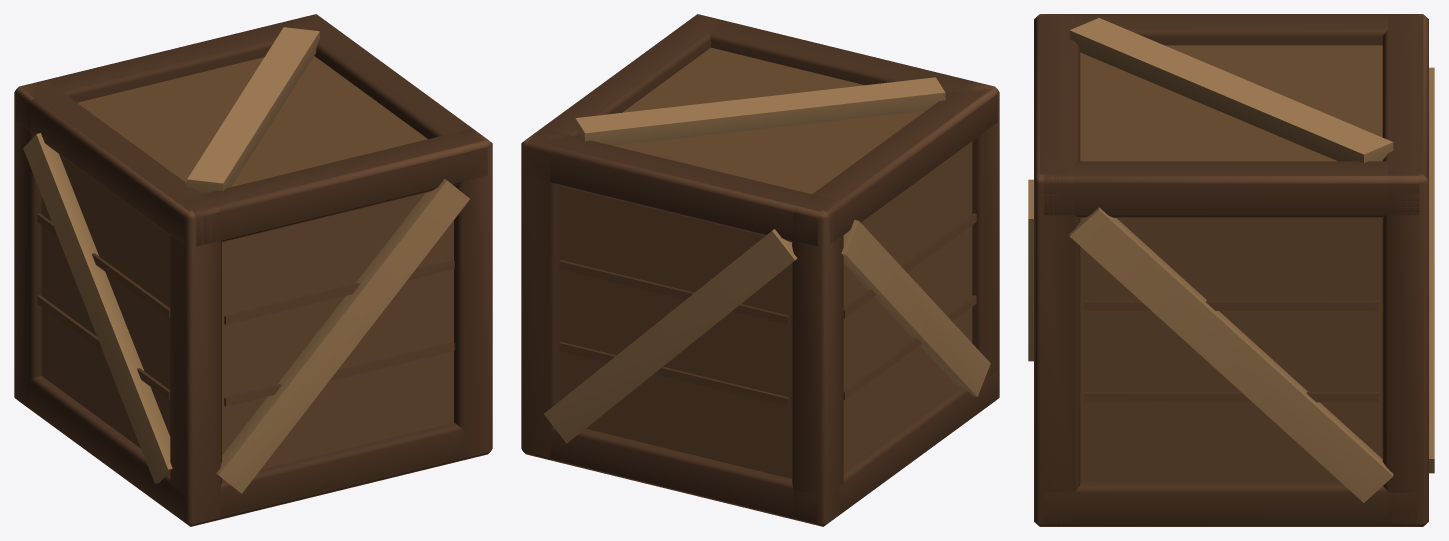
File: prop.crate.glb
The picture shows the model from 3 angles, left to right: view 1: azimuth 30°, elevation 25°; view 2: azimuth 150°, elevation 25°; view 3: azimuth 270°, elevation 25°; orthographic projection. The views are drawn at different scales.
Visible parts, largest first — view 1: crate; view 2: crate; view 3: crate.
Part boxes in pixels (x1,y1,x2,y2): crate: (14,14,492,526); crate: (521,14,999,526); crate: (1028,14,1434,526).
Size of the model in its own units: 1.05 by 1.03 by 1.05.
